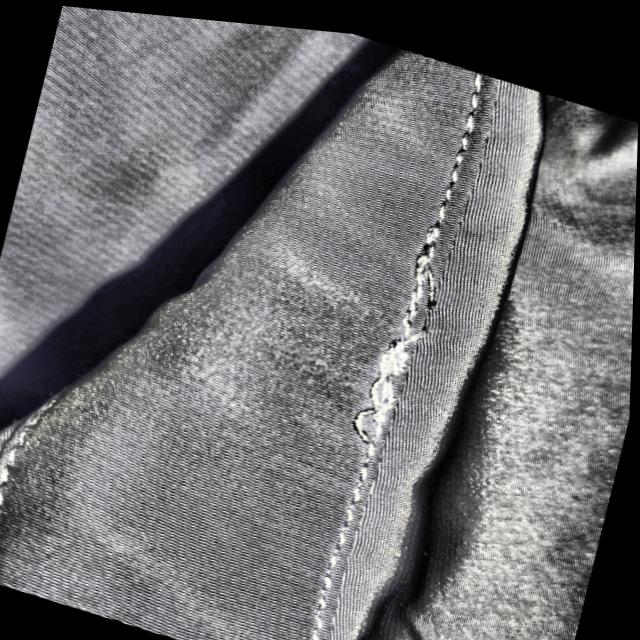Stitch: (311, 200, 477, 469)
